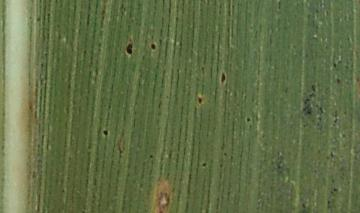tarspot: (125, 41, 132, 55), (220, 71, 226, 86), (197, 97, 202, 105), (201, 162, 207, 168), (150, 43, 155, 50), (102, 129, 107, 136), (148, 154, 153, 159), (246, 117, 251, 122), (335, 79, 340, 84)
